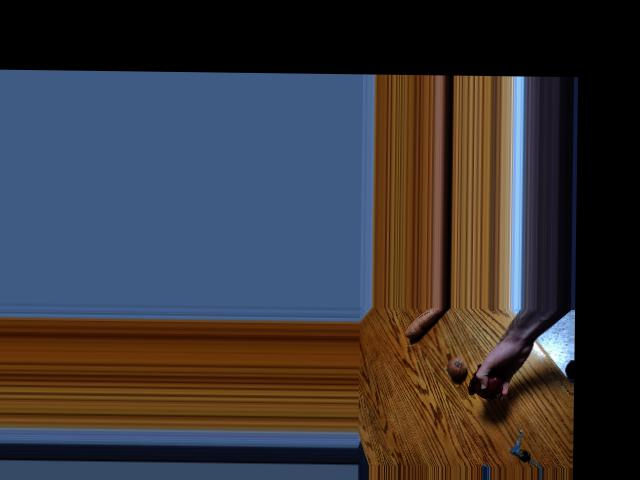onion: (474, 374, 501, 399)
